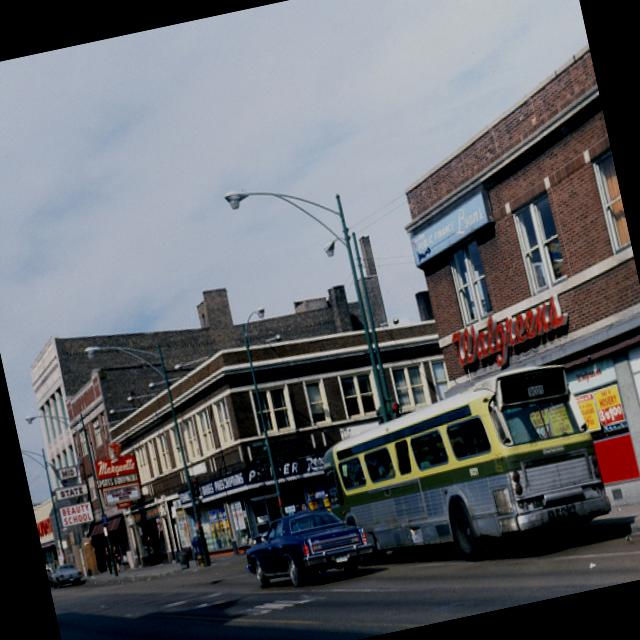Vehicle: (318, 358, 622, 596), (238, 498, 379, 598), (49, 562, 83, 588)
